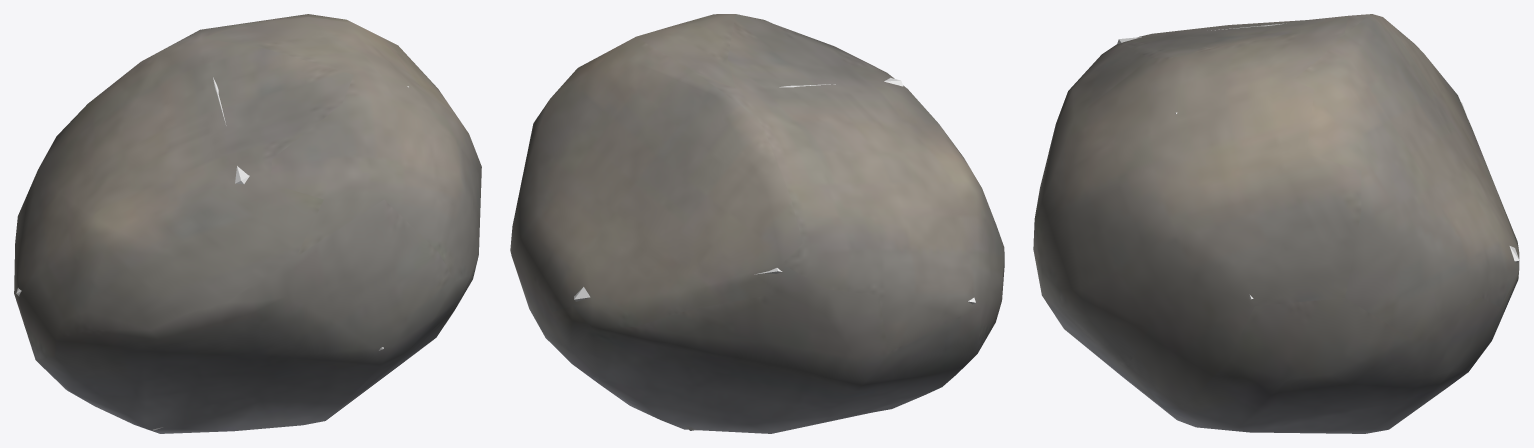
File: IO_Stone_Small_B.glb
3 renders of one model, left to right at view 1: azimuth 30°, elevation 25°; view 2: azimuth 150°, elevation 25°; view 3: azimuth 270°, elevation 25°, orthographic. The views are drawn at different scales.
Parts seen in each view (by area): view 1: IO_Stone_Small_B_LOD0; view 2: IO_Stone_Small_B_LOD0, IO_Stone_Small_B_COL; view 3: IO_Stone_Small_B_LOD0.
Part boxes in pixels (x1,y1,x2,y2): IO_Stone_Small_B_LOD0: (14, 14, 481, 433); IO_Stone_Small_B_LOD0: (510, 14, 1004, 433); IO_Stone_Small_B_COL: (574, 77, 975, 430); IO_Stone_Small_B_LOD0: (1033, 14, 1519, 433).
Size of what is drawn, in the model's own units: 0.1505 by 0.1142 by 0.1299.
Materials: 1 (1 with a texture image).
